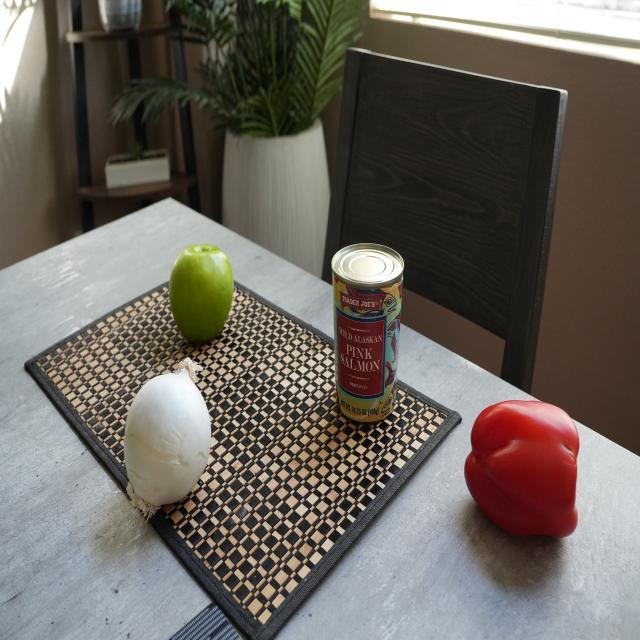bell_pepper: (461, 393, 604, 553)
onion: (119, 359, 217, 518)
